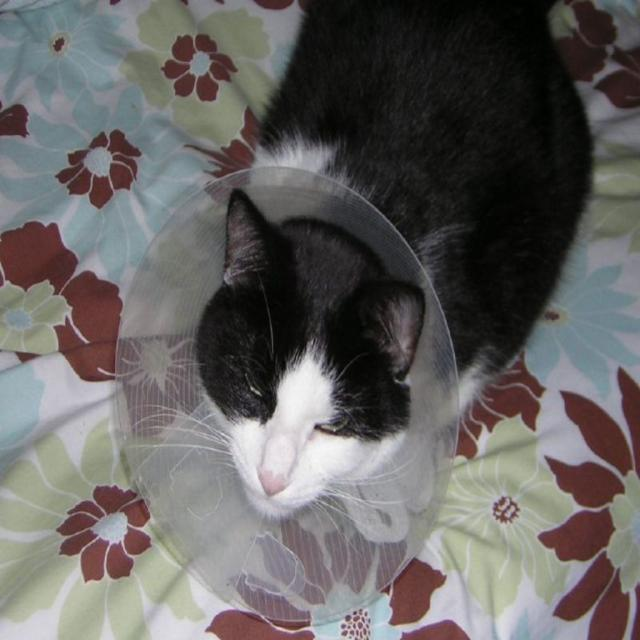Cat: (116, 0, 602, 598)
